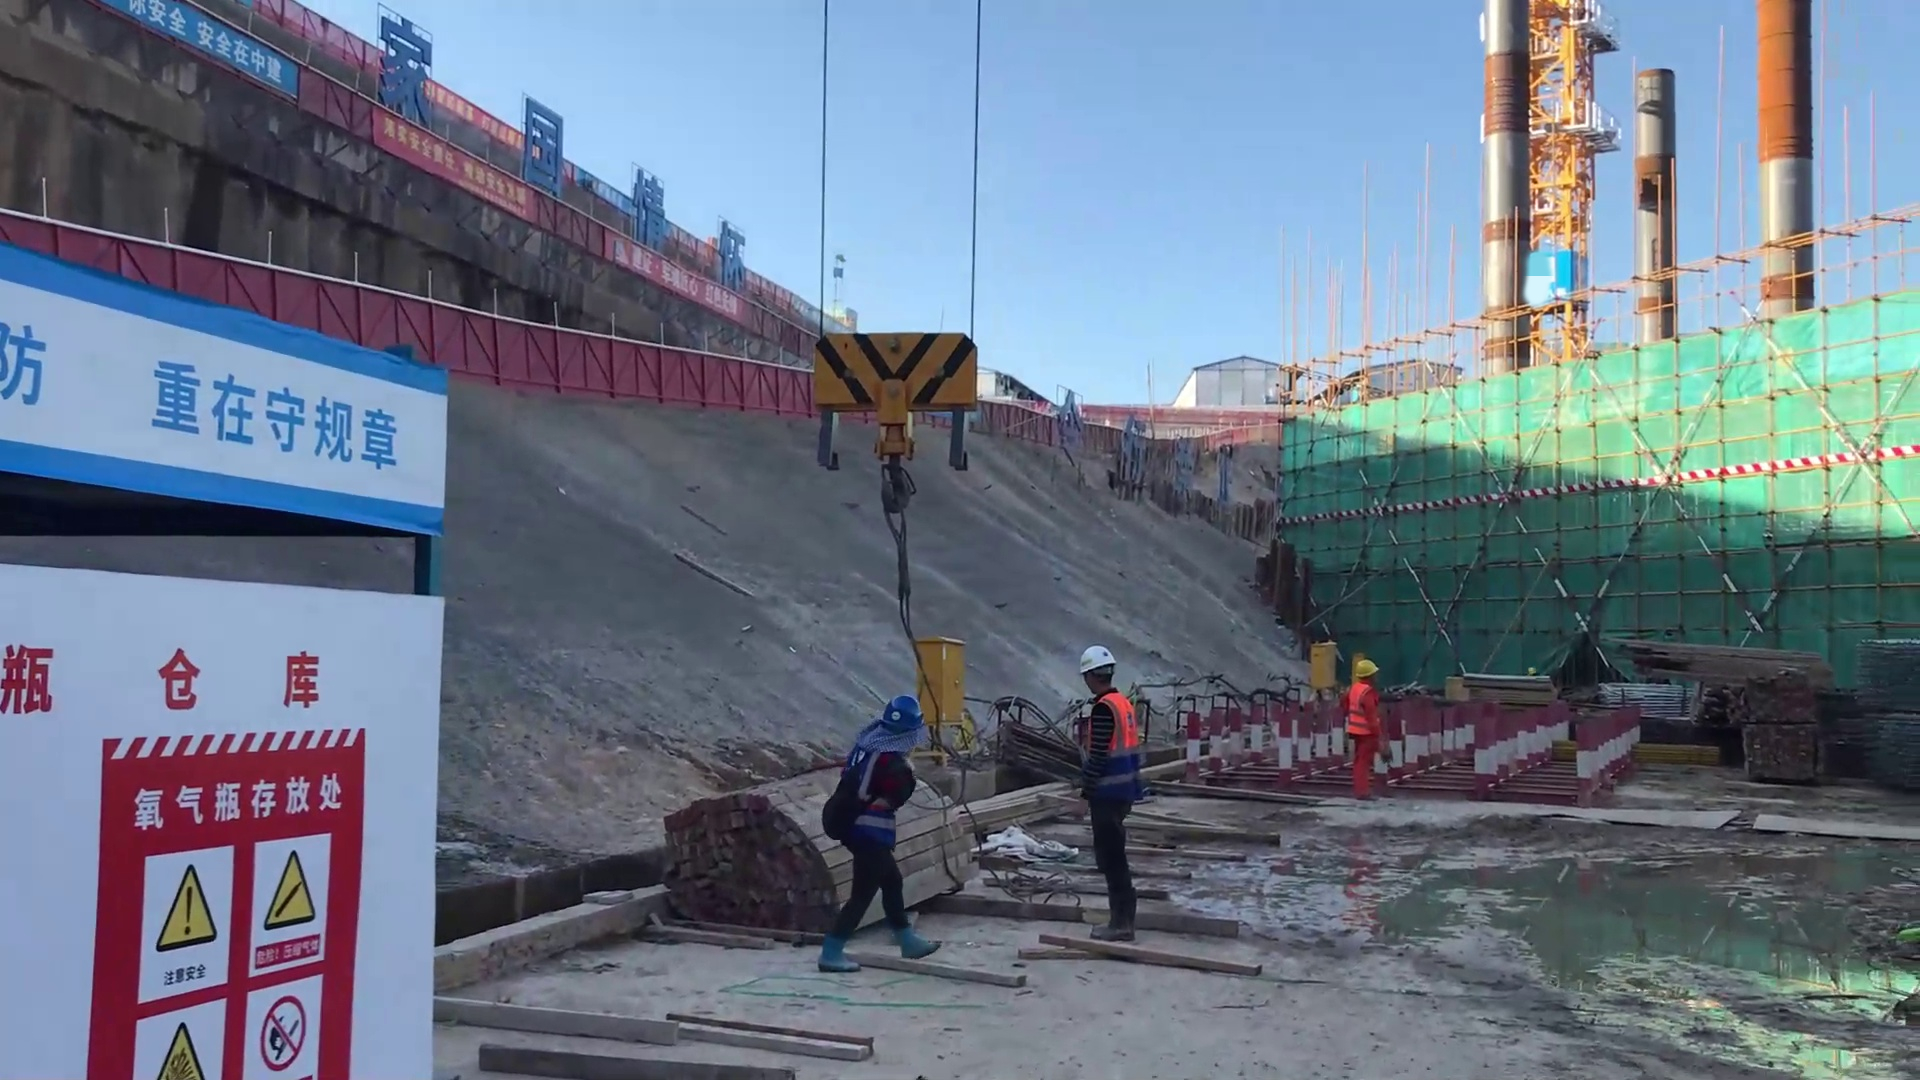ebox: (915, 630, 973, 731)
fence: (425, 301, 825, 426)
helmet: (877, 683, 937, 731), (1076, 641, 1122, 691), (1350, 655, 1379, 678)
hook: (816, 320, 982, 471)
person: (815, 687, 941, 978), (1058, 643, 1156, 951), (1340, 656, 1398, 803)
slogan: (74, 749, 394, 1080), (100, 293, 428, 553), (354, 111, 522, 238), (127, 1, 299, 111)
vest: (834, 737, 901, 840), (1078, 695, 1147, 793), (1343, 680, 1394, 739)
wood: (651, 781, 834, 949), (1599, 630, 1814, 704)
